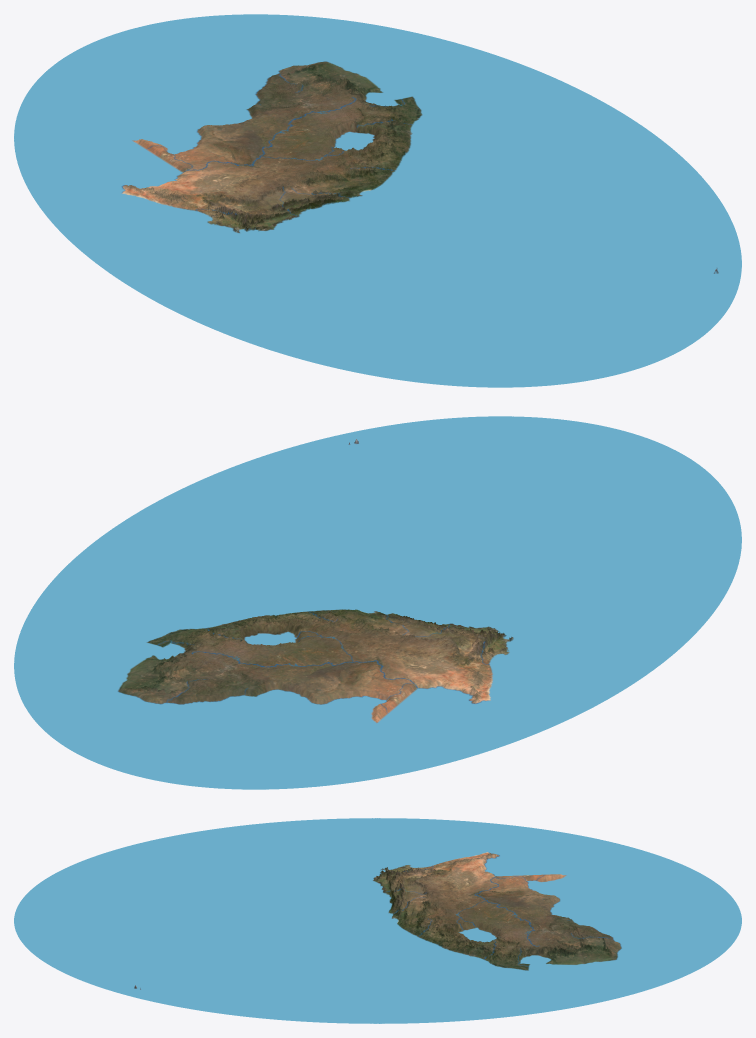
File: ZAF-previa-terrain.glb
3 renders of one model, top to bottom at view 1: azimuth 30°, elevation 25°; view 2: azimuth 150°, elevation 25°; view 3: azimuth 270°, elevation 25°, orthographic. The views are drawn at different scales.
Parts seen in each view (by area): view 1: África do Sul; view 2: África do Sul; view 3: África do Sul.
Part boxes in pixels (bbox=[...]): África do Sul: bbox=[14, 14, 741, 387]; África do Sul: bbox=[14, 416, 741, 789]; África do Sul: bbox=[14, 818, 741, 1023].
Bounding box in the file's own units: 1.78 × 0.0311 × 2.66.
1 material, 1 textured.
